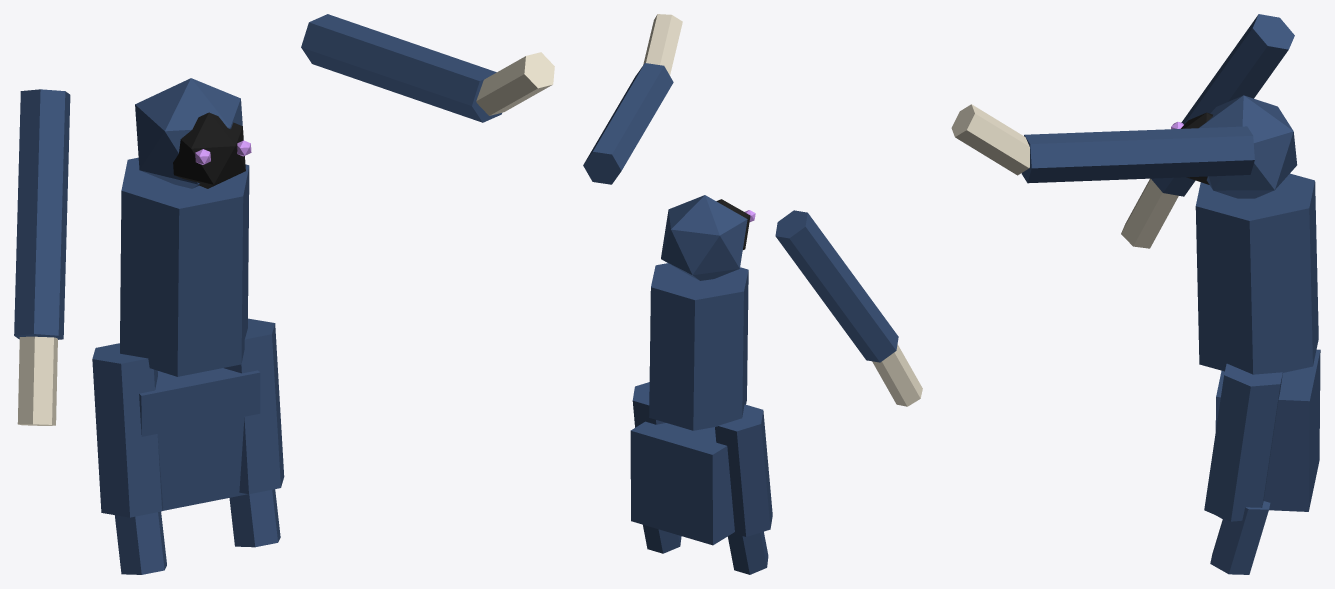
Rendered from npcpose_wraith_attack_02.glb.
3 views of the same model, side by side, from view 1: azimuth 30°, elevation 25°; view 2: azimuth 150°, elevation 25°; view 3: azimuth 270°, elevation 25° (orthographic). The views are drawn at different scales.
Visible parts, largest first — view 1: npcpose; view 2: npcpose; view 3: npcpose.
Boxes of the visible parts, x1,y1,x2,y2 form: npcpose: (14,14,554,574); npcpose: (583,14,922,574); npcpose: (951,14,1320,574).
Size of the model in its own units: 1.01 by 1.23 by 0.7845.
